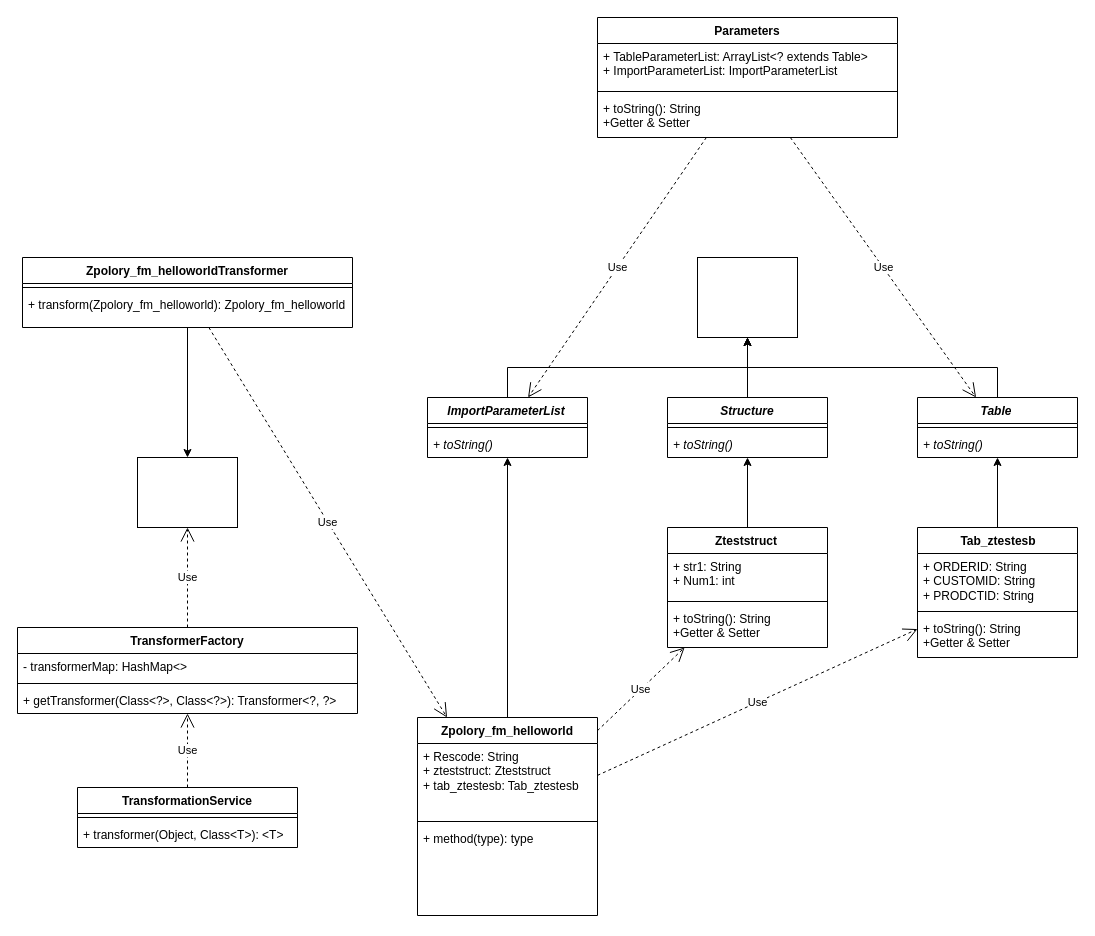
Image size: 1095x936. Some labels were removed from this diagram. The centre of each missing label's shape, as x and y in pixels:
<<Interface>> Transformer + transform(T): T: the point at 187,492
BaseEntity + toString(): the point at 747,297
